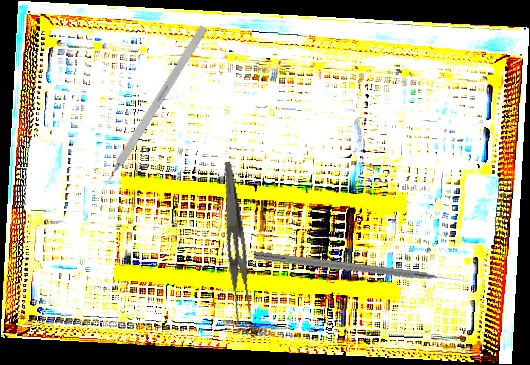Dressing Forceps: (206, 160, 260, 324)
Hook Surgical: (96, 25, 208, 196), (253, 251, 462, 287)
